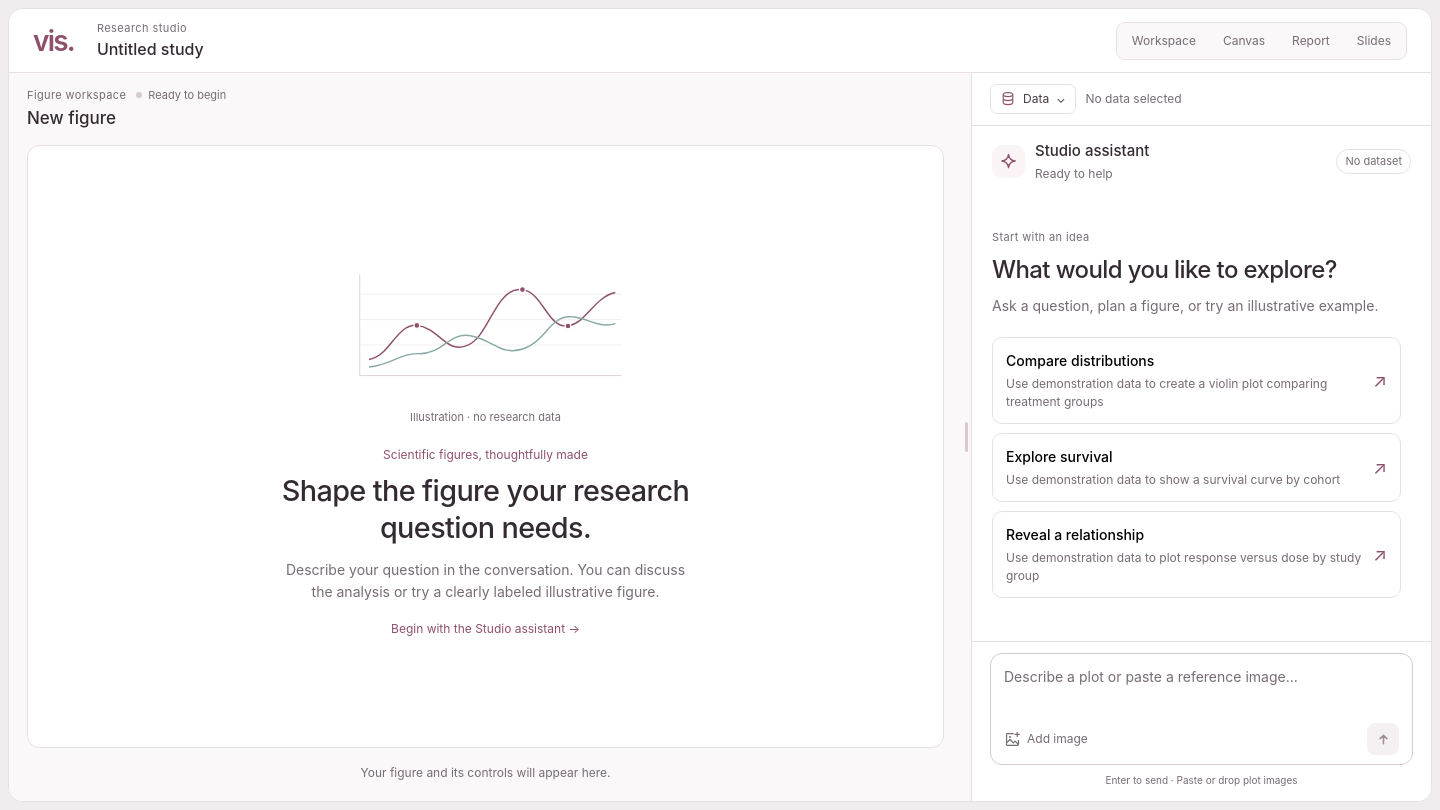
Test: shows an event preview and preserves it after a failed refinement
This screenshot has width=1440, height=810.
Type "Compare treatment and control" into the text box named "Describe the plot you want".
click(1202, 690); type("Compare treatment and control")  # box [1004,666,1399,714]
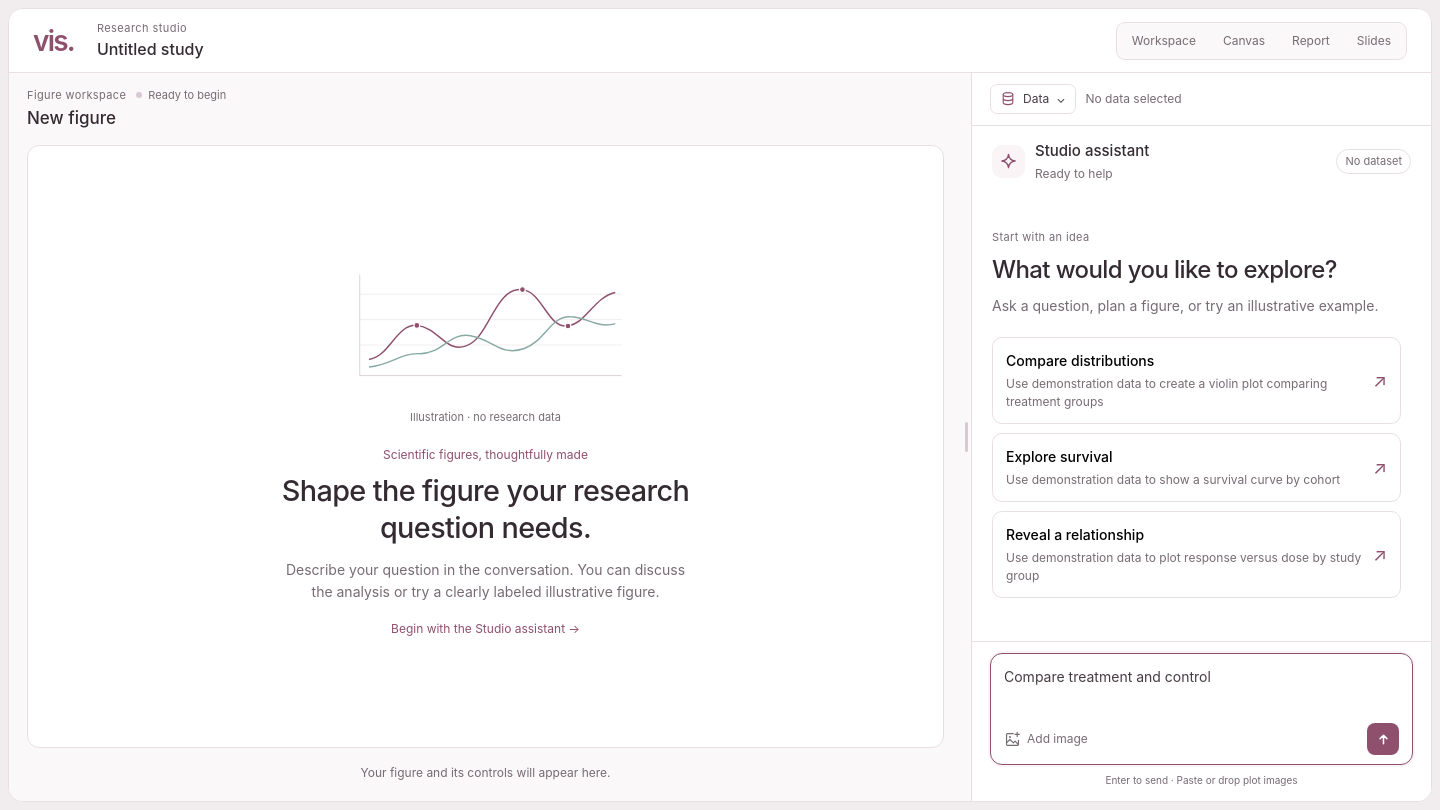
Click the button named "Send".
click(1383, 739)  # box [1367,723,1399,755]
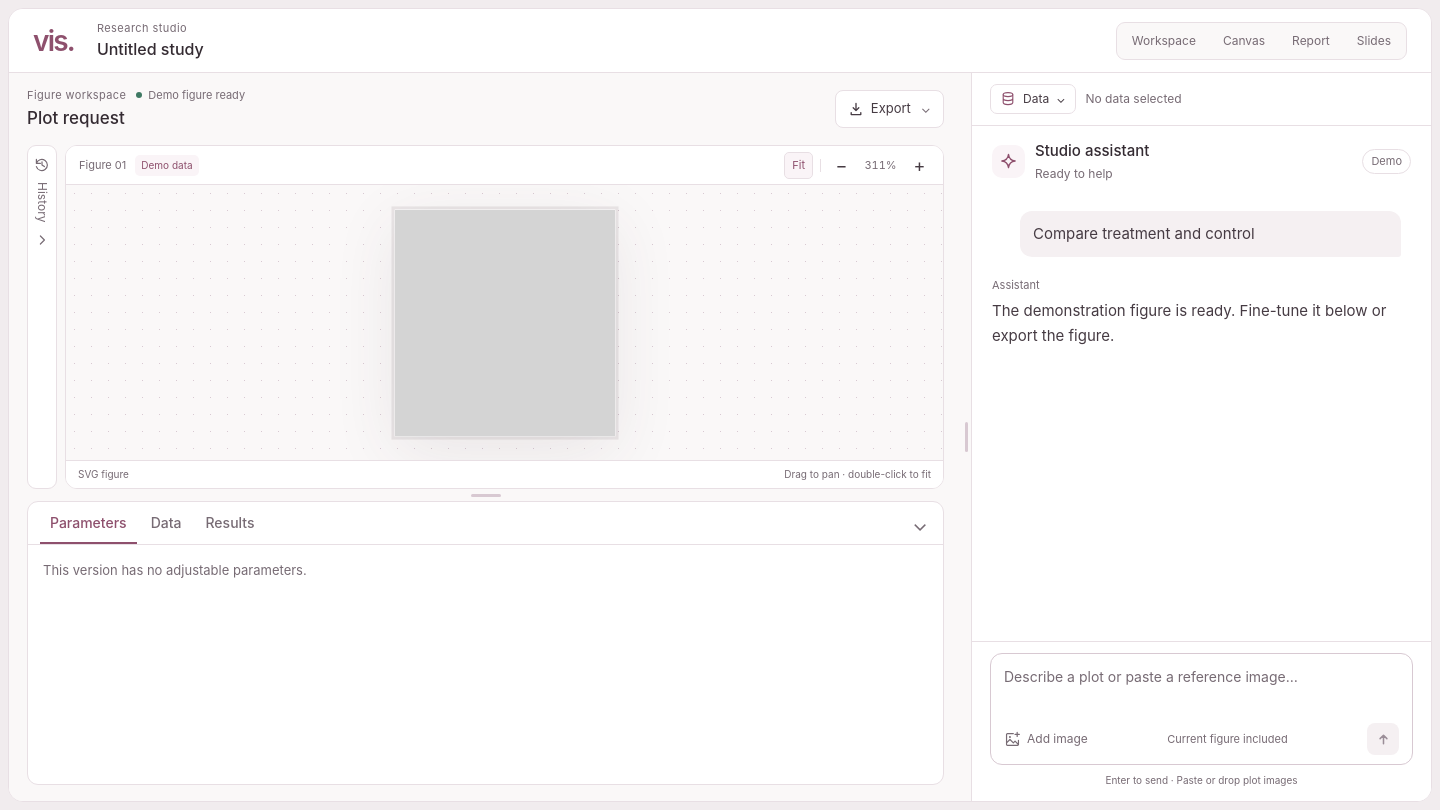
Check: the text "The demonstration figure is ready" is shown, box [992,301,1386,345]
Type "Move the legend below the plot" into the text box named "Describe the plot you want".
click(1202, 690); type("Move the legend below the plot")  # box [1004,666,1399,714]
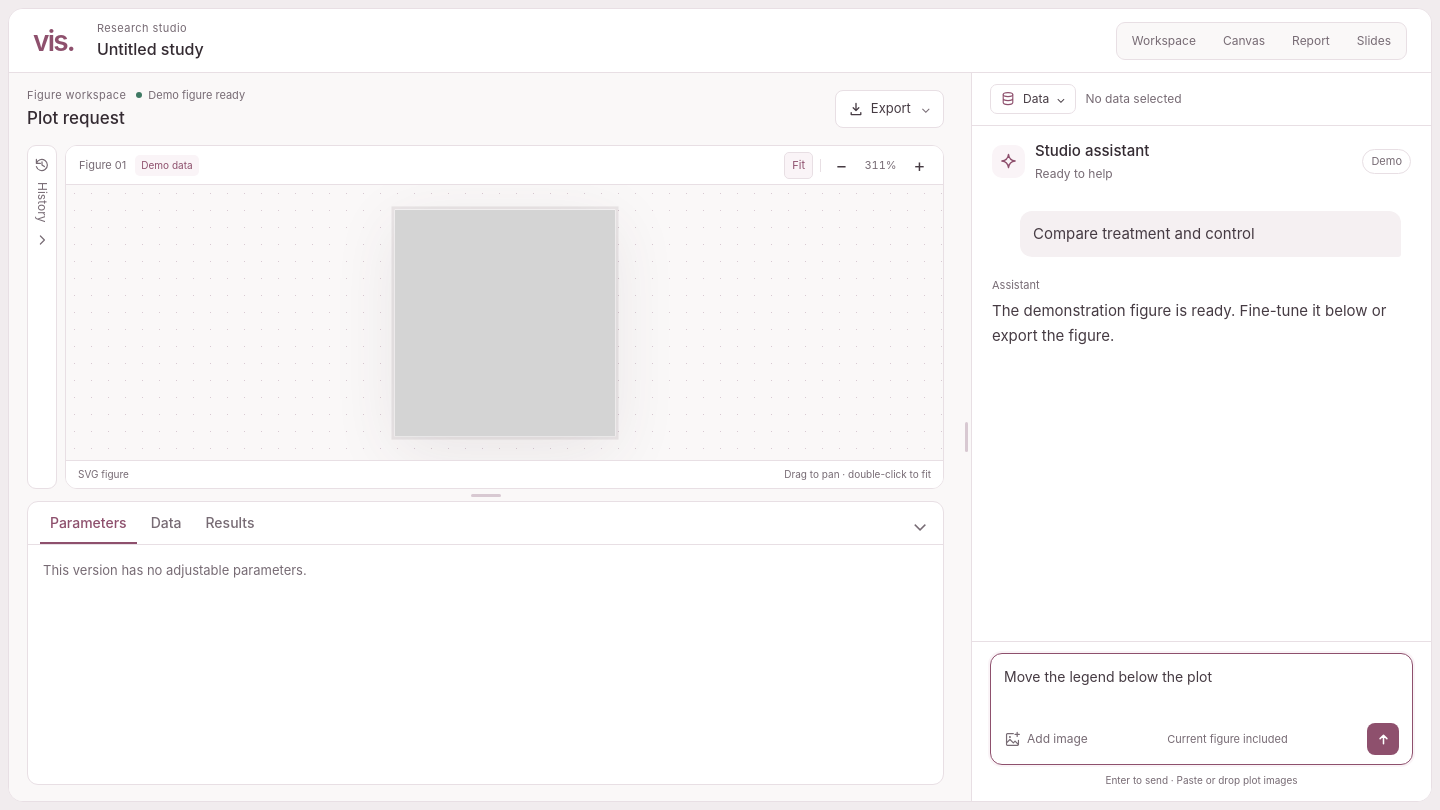
Click the button named "Send".
click(1383, 739)  # box [1367,723,1399,755]
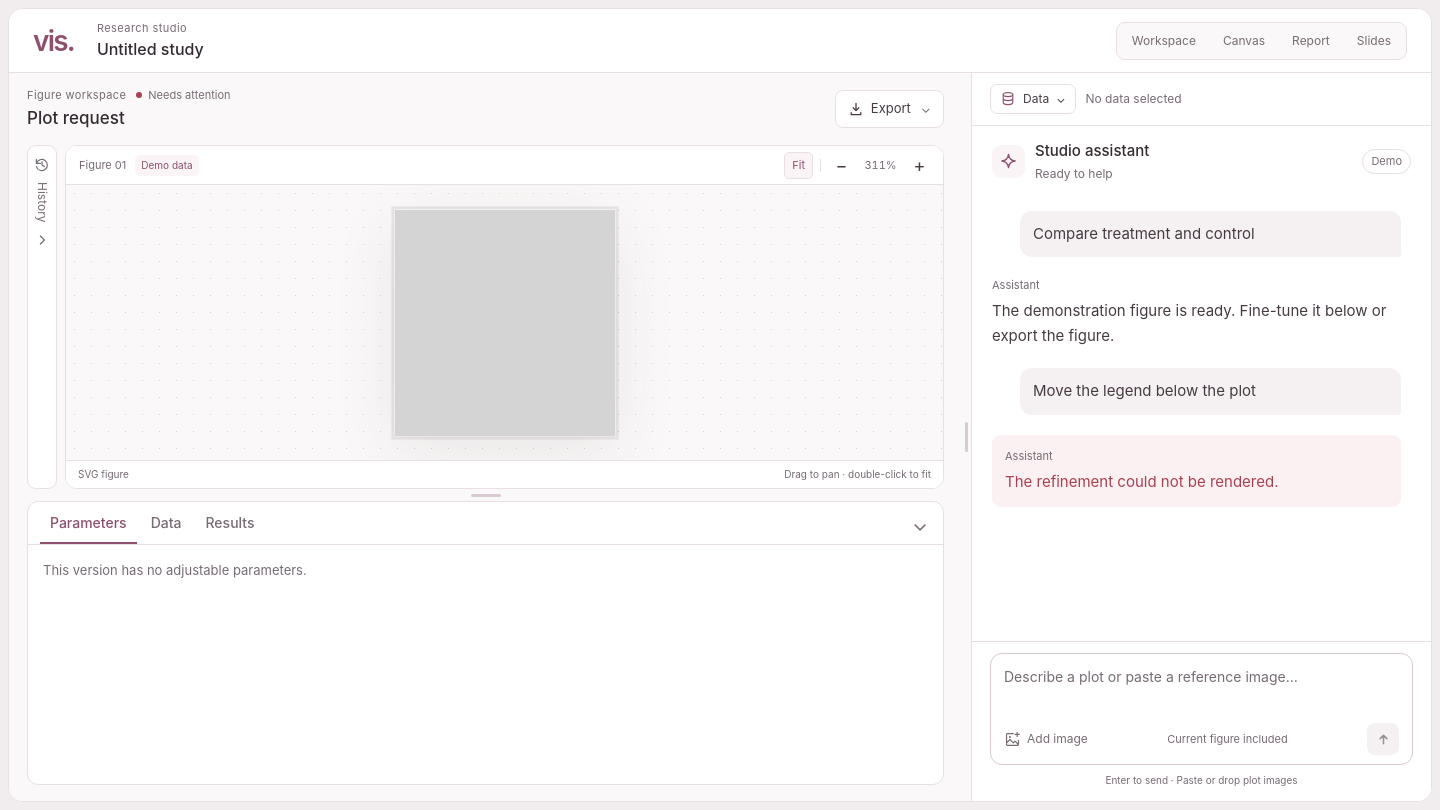
Check: the text "The refinement could not be rendered." is shown, box [1005,472,1278,490]
